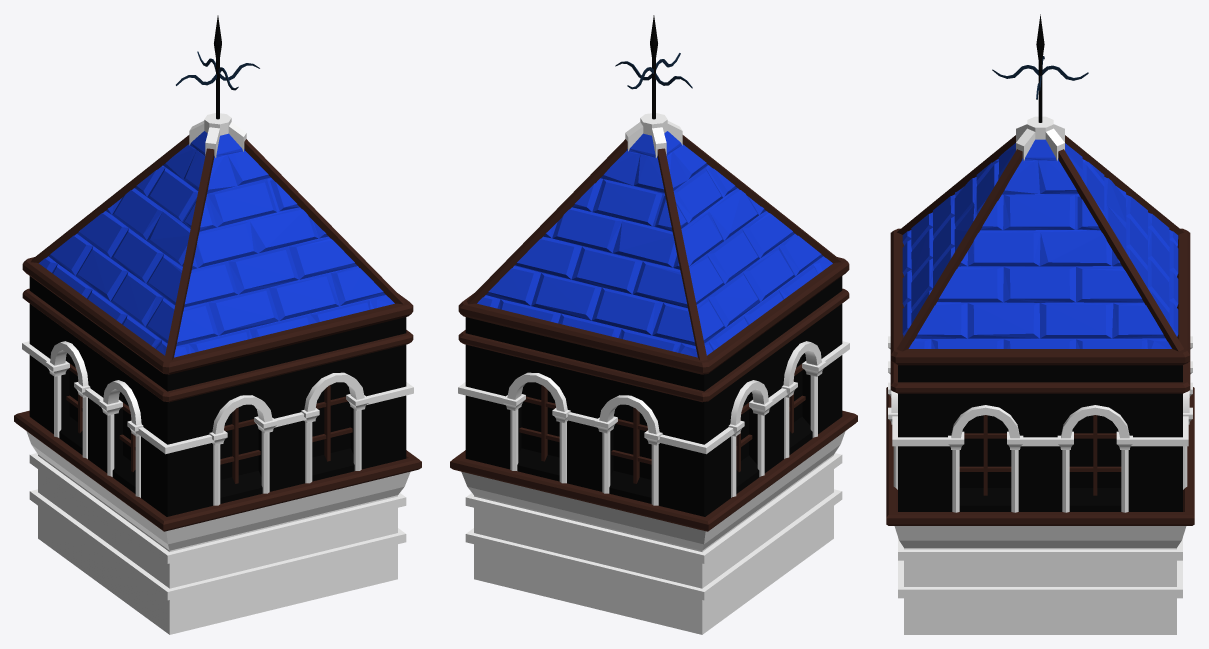
File: roof_building_7.FBX
3 renders of one model, left to right at view 1: azimuth 30°, elevation 25°; view 2: azimuth 150°, elevation 25°; view 3: azimuth 270°, elevation 25°, orthographic. The views are drawn at different scales.
Visible parts, largest first — view 1: roof_building_7; view 2: roof_building_7; view 3: roof_building_7.
Boxes of the visible parts, x1,y1,x2,y2 form: roof_building_7: (14,15,421,634); roof_building_7: (450,15,857,634); roof_building_7: (886,14,1194,634).
Size of the model in its own units: 509 by 1026 by 509.
